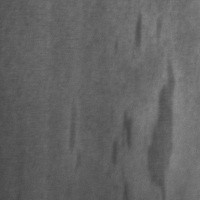inclusion: (144, 56, 179, 199), (108, 109, 138, 199), (113, 10, 166, 54), (66, 98, 84, 174)
